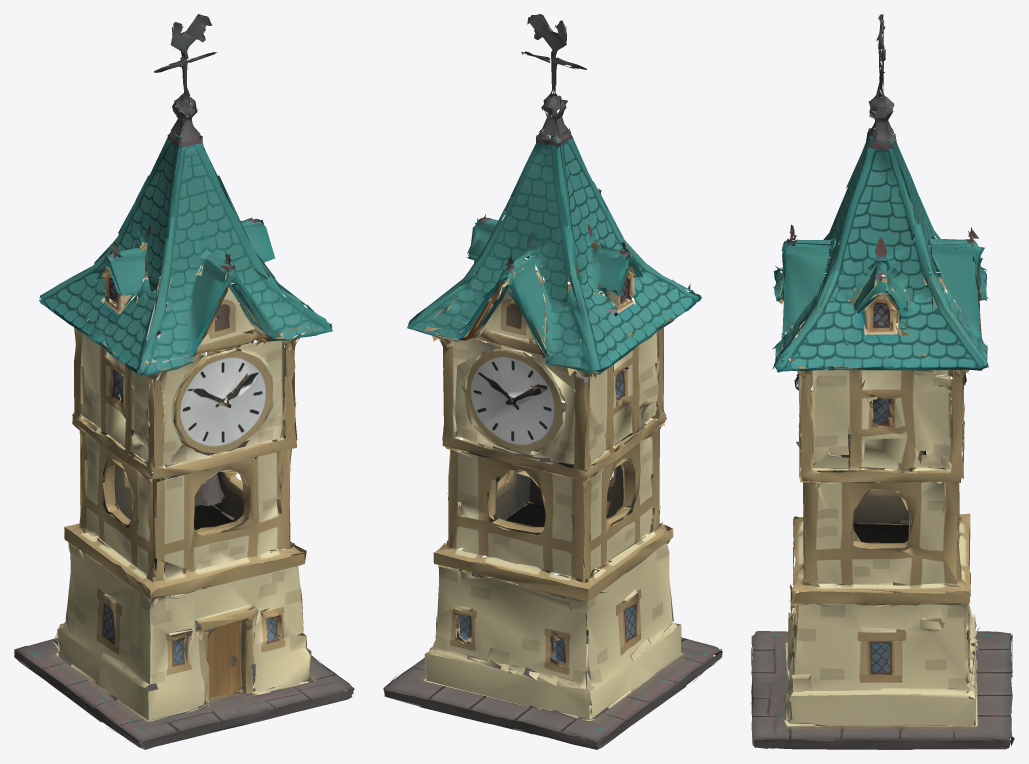
Rendered from clockTower.glb.
3 views of the same model, side by side, from view 1: azimuth 30°, elevation 25°; view 2: azimuth 150°, elevation 25°; view 3: azimuth 270°, elevation 25° (orthographic). The views are drawn at different scales.
Parts seen in each view (by area): view 1: clockTower; view 2: clockTower; view 3: clockTower.
Boxes of the visible parts, x1,y1,x2,y2 form: clockTower: (14,14,354,749); clockTower: (383,14,722,749); clockTower: (751,14,1014,749).
Size of the model in its own units: 0.3116 by 0.9003 by 0.3163.
Materials: 1 (1 with a texture image).
